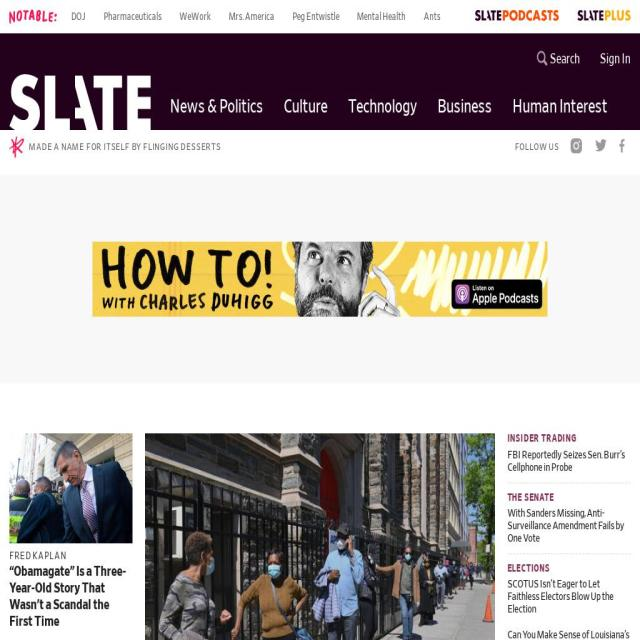button: (145, 433, 495, 640), (9, 433, 133, 630), (10, 72, 152, 130), (507, 507, 631, 546), (507, 578, 631, 617), (507, 449, 631, 475), (29, 139, 221, 154), (512, 96, 607, 122), (169, 96, 263, 122), (347, 96, 417, 122), (507, 628, 631, 640), (437, 96, 492, 122), (283, 96, 328, 122), (102, 8, 163, 25), (355, 8, 407, 25), (291, 8, 341, 25), (227, 8, 276, 25), (178, 8, 212, 25), (600, 51, 631, 67), (422, 8, 442, 25), (569, 136, 584, 158), (70, 8, 88, 25), (593, 138, 608, 156), (617, 136, 627, 158)
field: (549, 51, 582, 68)
heading: (9, 562, 133, 630), (507, 507, 631, 546), (507, 578, 631, 617), (507, 449, 631, 475), (507, 433, 631, 445), (507, 628, 631, 640), (507, 492, 631, 503), (507, 563, 631, 574), (9, 6, 57, 27)
iframe: (92, 242, 548, 318)
image: (145, 433, 495, 640), (9, 434, 133, 544), (10, 74, 152, 134), (474, 10, 559, 21), (578, 10, 630, 21), (9, 136, 25, 158), (570, 138, 582, 154), (536, 51, 548, 66), (595, 139, 607, 153), (619, 138, 625, 154)
text: (9, 550, 133, 562), (514, 141, 560, 152)
